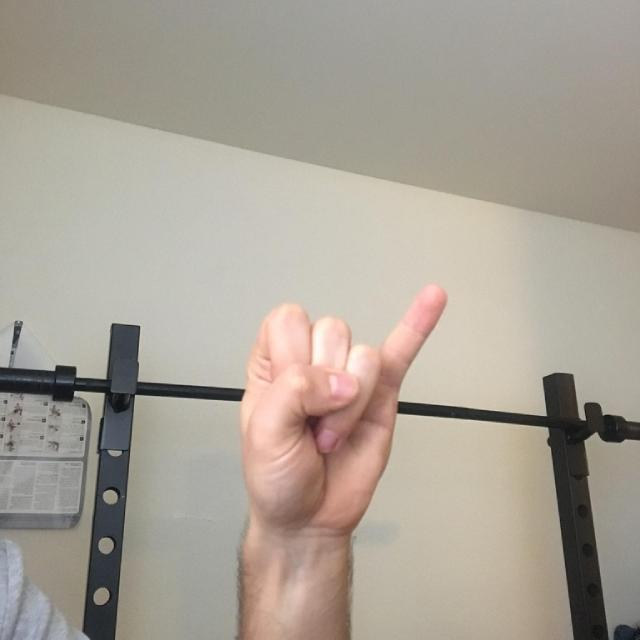I: (212, 229, 514, 587)
